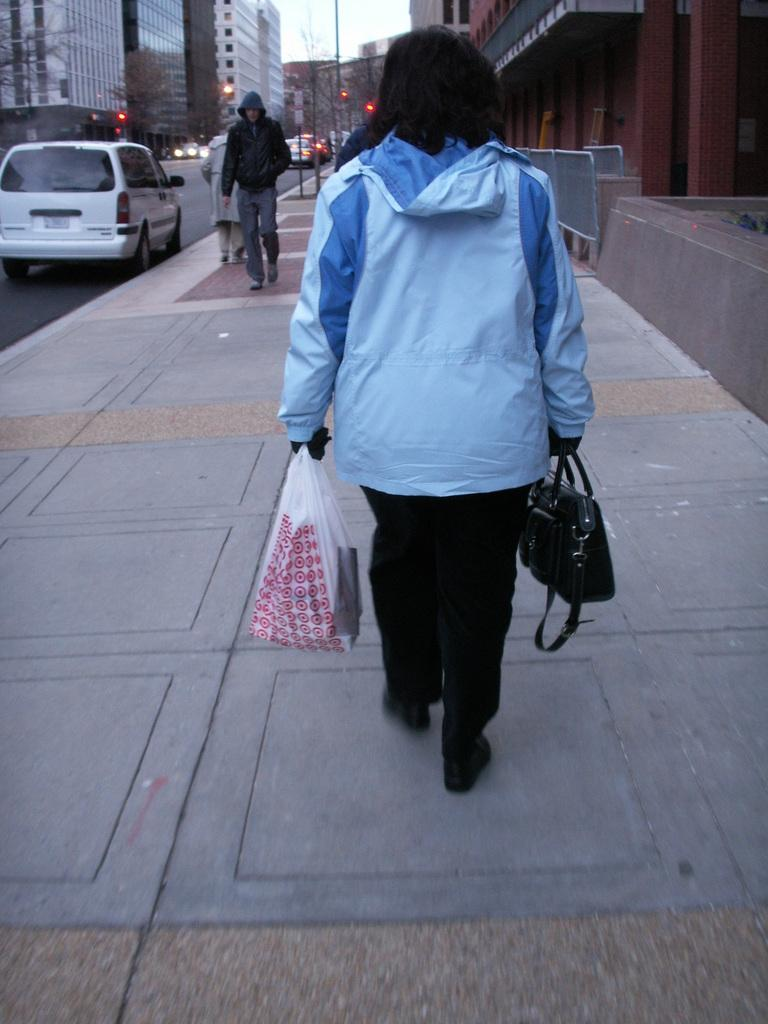Luggage-and-bags: (254, 449, 362, 653), (534, 442, 618, 630)
